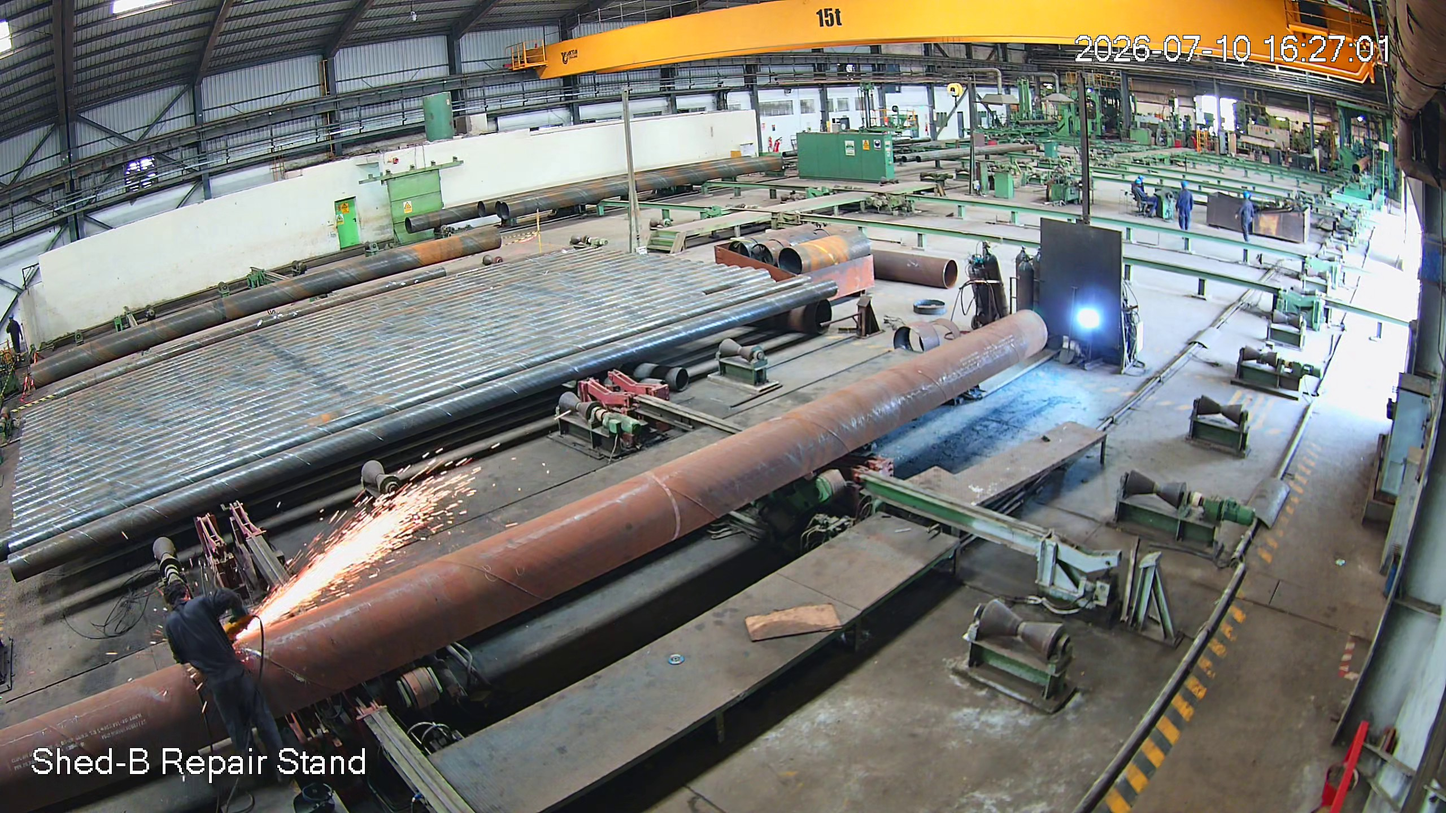Helmet: (1179, 179, 1193, 193), (1241, 190, 1255, 203)
Person: (158, 581, 306, 794), (1174, 180, 1196, 230), (1240, 191, 1256, 241)
